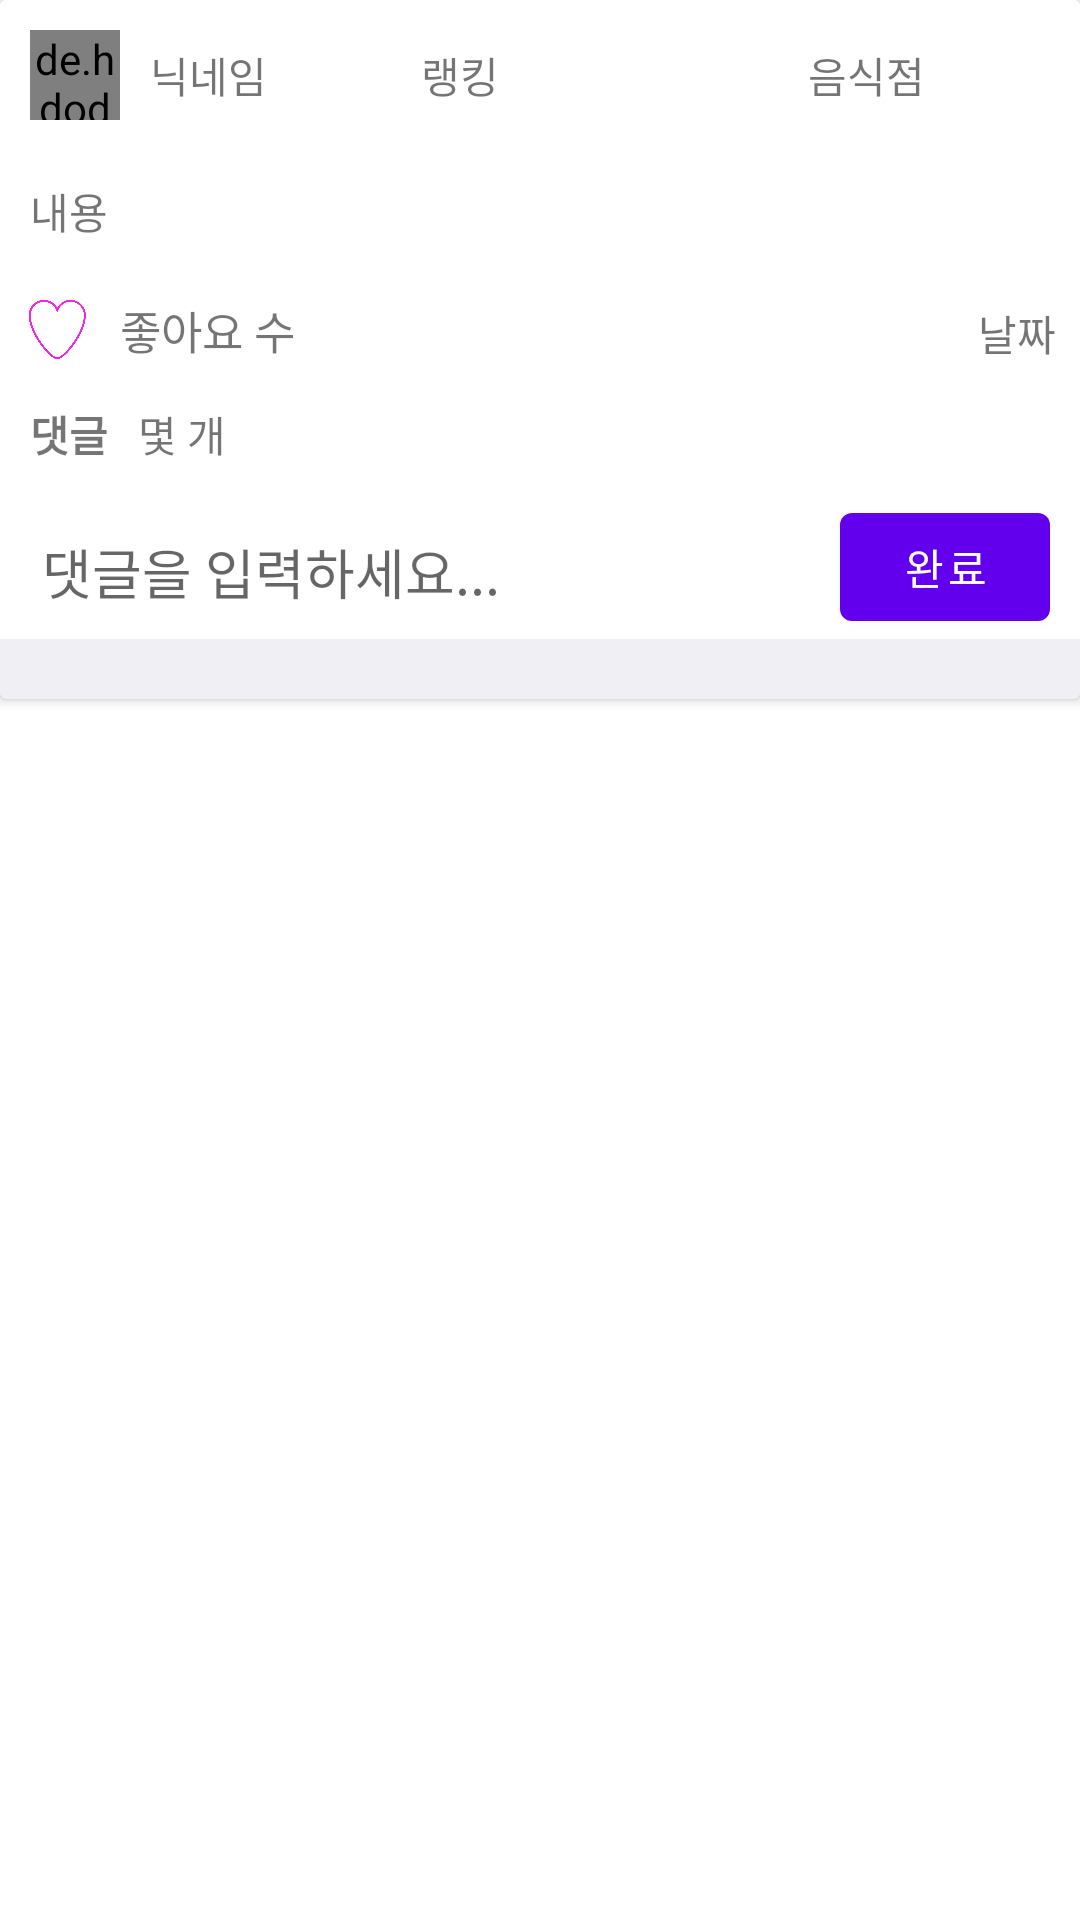

Locate icon controls on the screen. Image size 1080px×1920px, boxes as (x1, y1, x2, y2).
no like: (29, 300, 86, 359)
